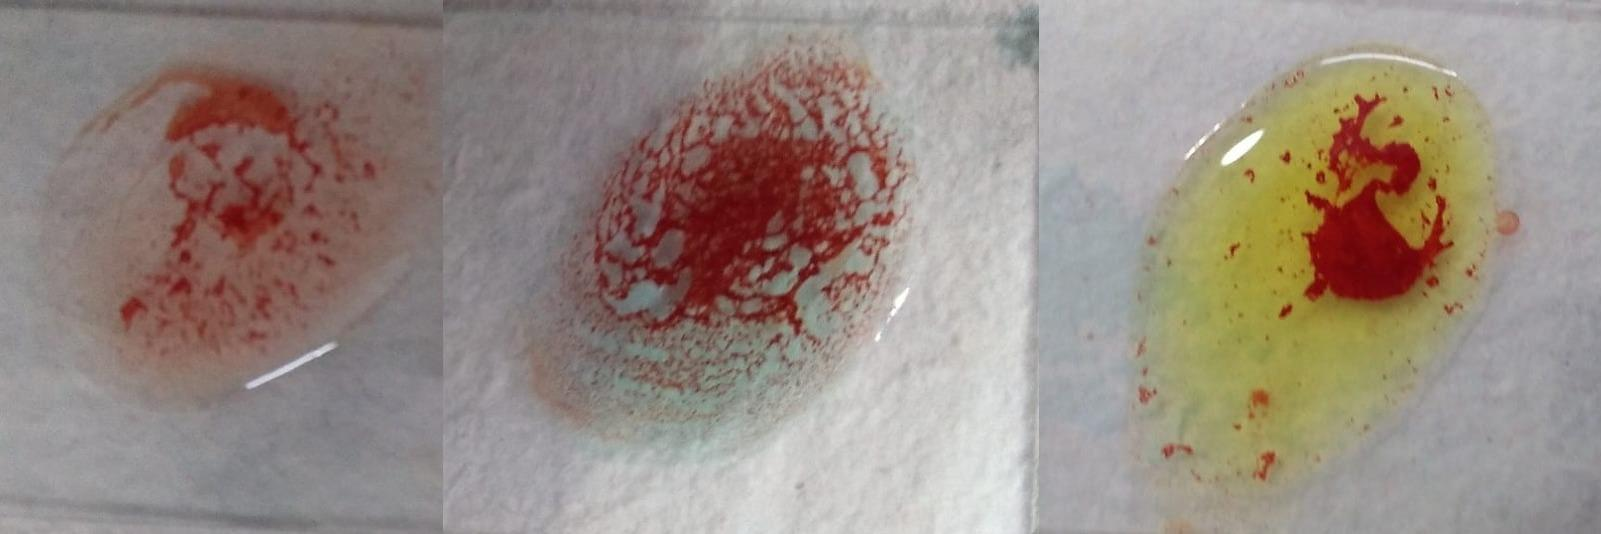A: (535, 49, 928, 451)
B: (1138, 57, 1499, 451)
D: (45, 55, 427, 399)
